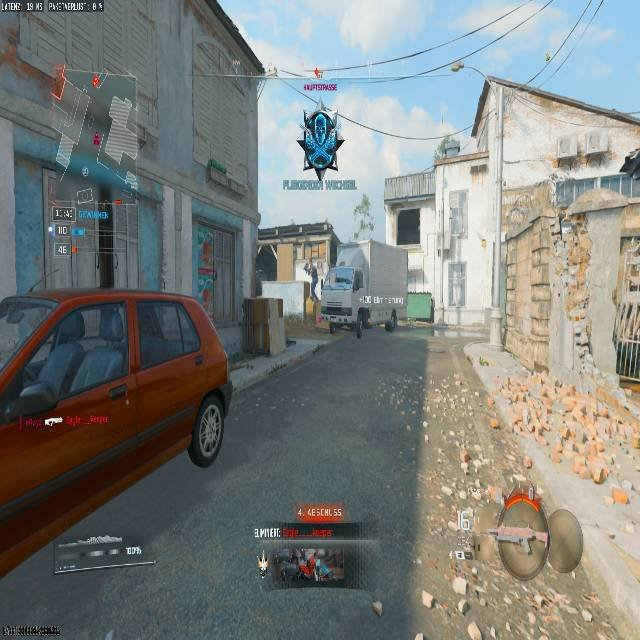head: (312, 106, 333, 126)
player: (296, 107, 344, 181)
